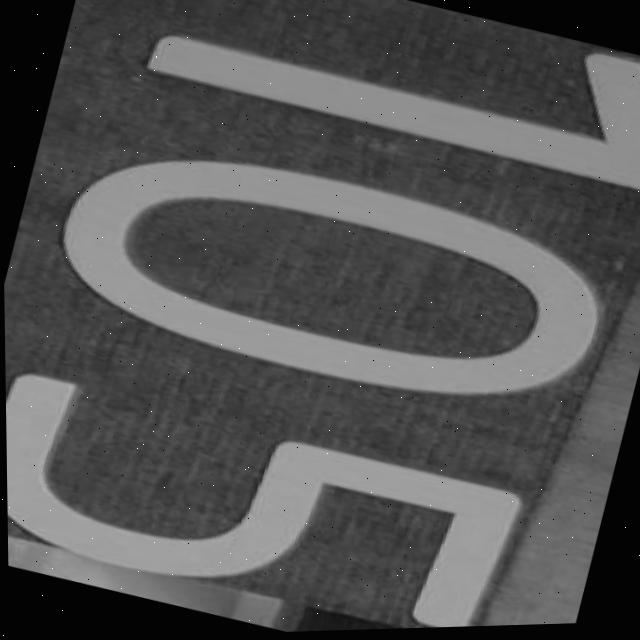character: (19, 93, 630, 462), (5, 338, 539, 640), (110, 0, 640, 226)
